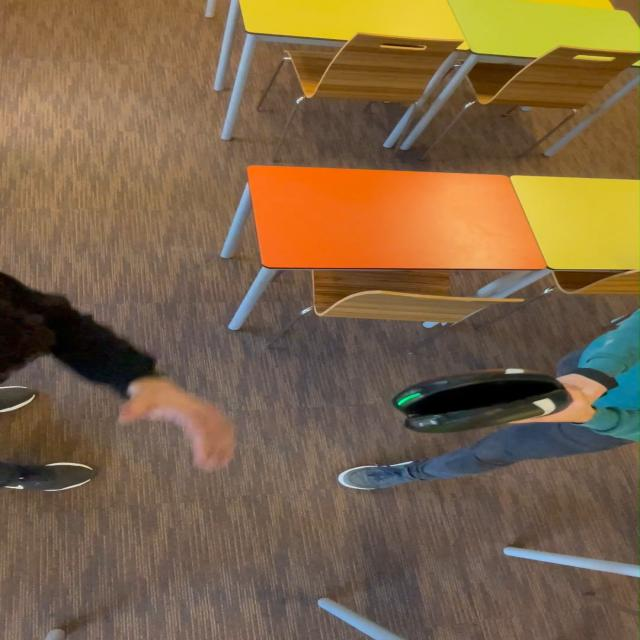paddle: (395, 369, 567, 431)
trigger: (387, 388, 435, 407)
